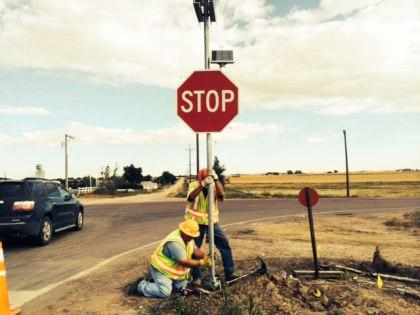Pole: (206, 136, 217, 287), (306, 209, 319, 272)
Sign: (175, 71, 240, 133)
